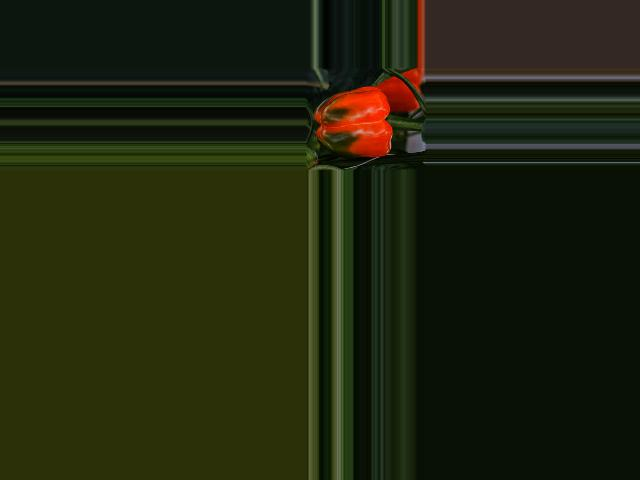bell_pepper: (308, 83, 401, 167)
